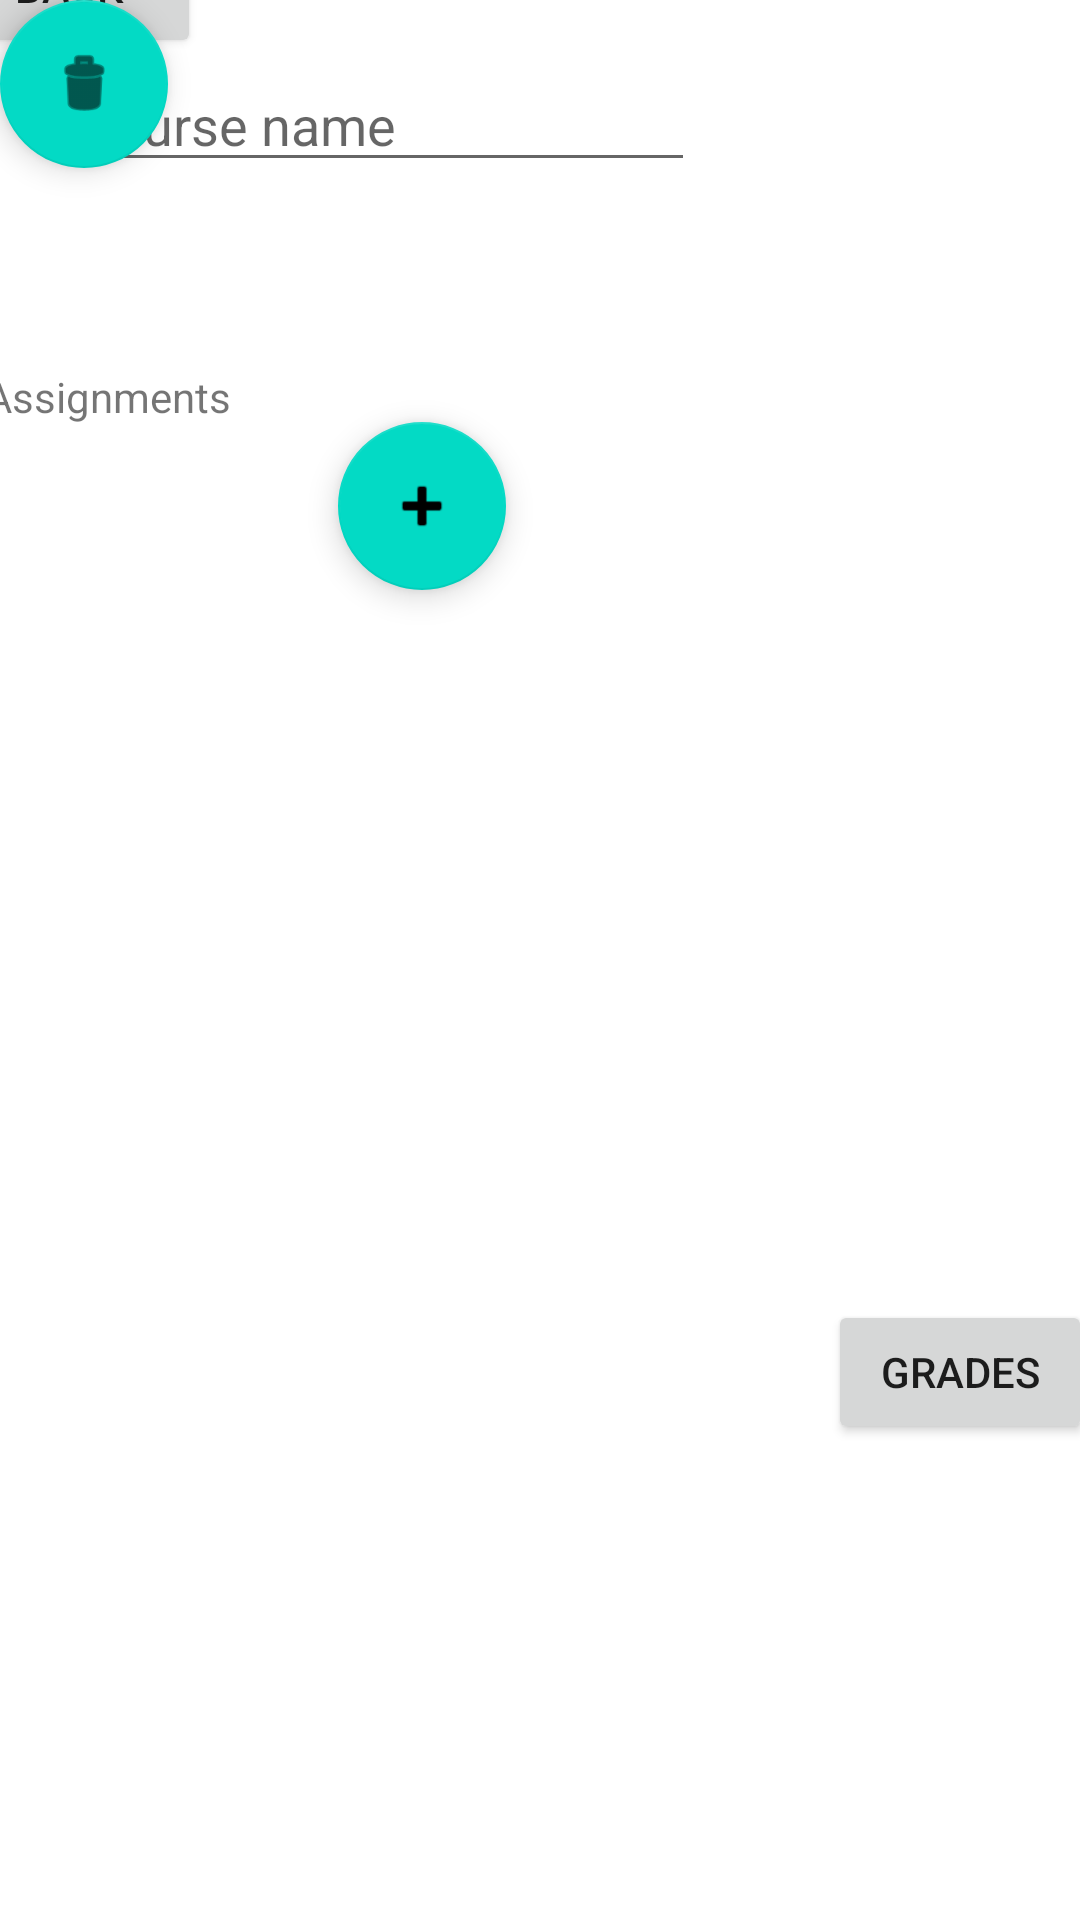

Point at icon controls on the screen. Image size 1080w x 1920h, points as (x,y).
add: (422,506)
delete: (84,84)
